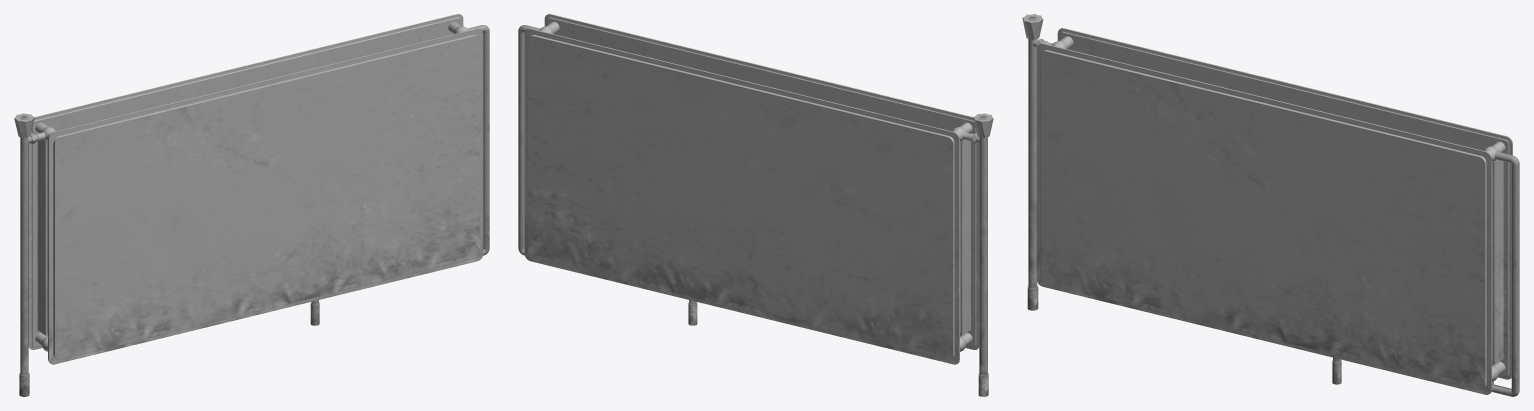
Rendered from Radiator.fbx.
3 views of the same model, side by side, from view 1: azimuth 30°, elevation 25°; view 2: azimuth 150°, elevation 25°; view 3: azimuth 330°, elevation 25° (orthographic). The views are drawn at different scales.
Visible parts, largest first — view 1: Radiator; view 2: Radiator; view 3: Radiator.
Part boxes in pixels (box(x1,y1,x2,y2)): Radiator: box(14, 14, 489, 396); Radiator: box(518, 14, 993, 396); Radiator: box(1022, 14, 1519, 396).
Bounding box in the file's own units: 111 × 62.43 × 9.63.
